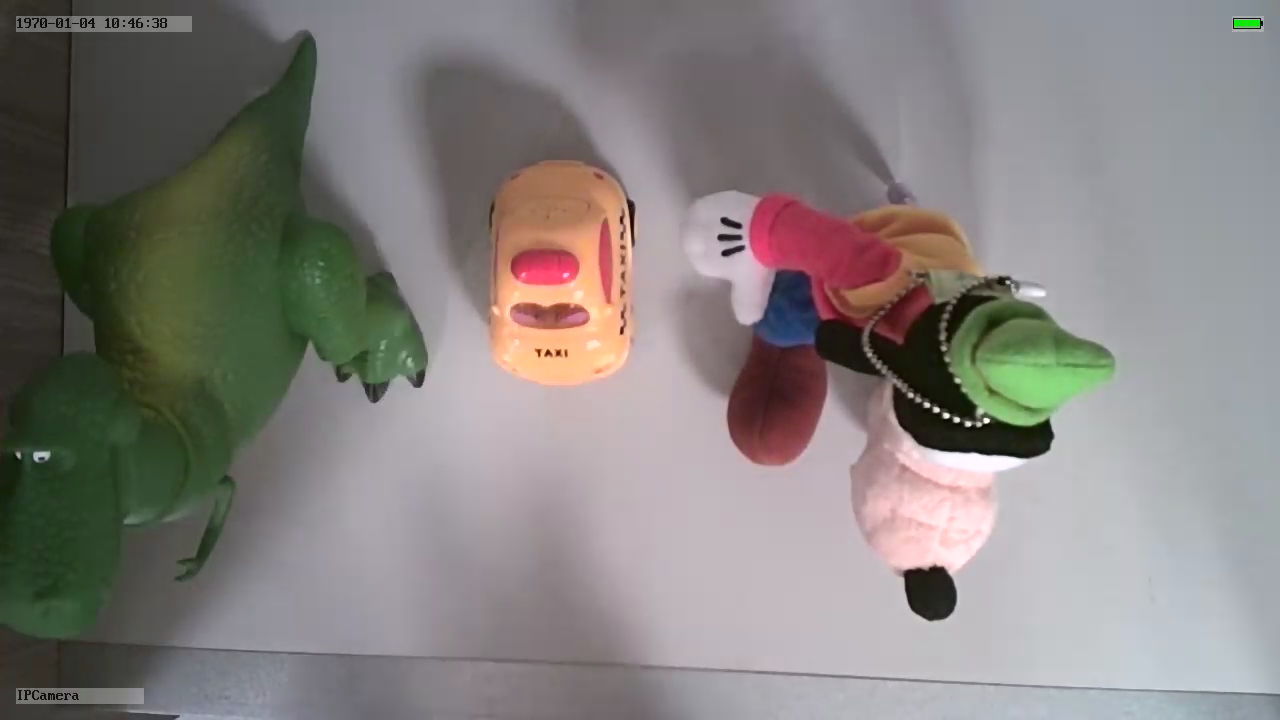goofy: (681, 186, 1115, 619)
